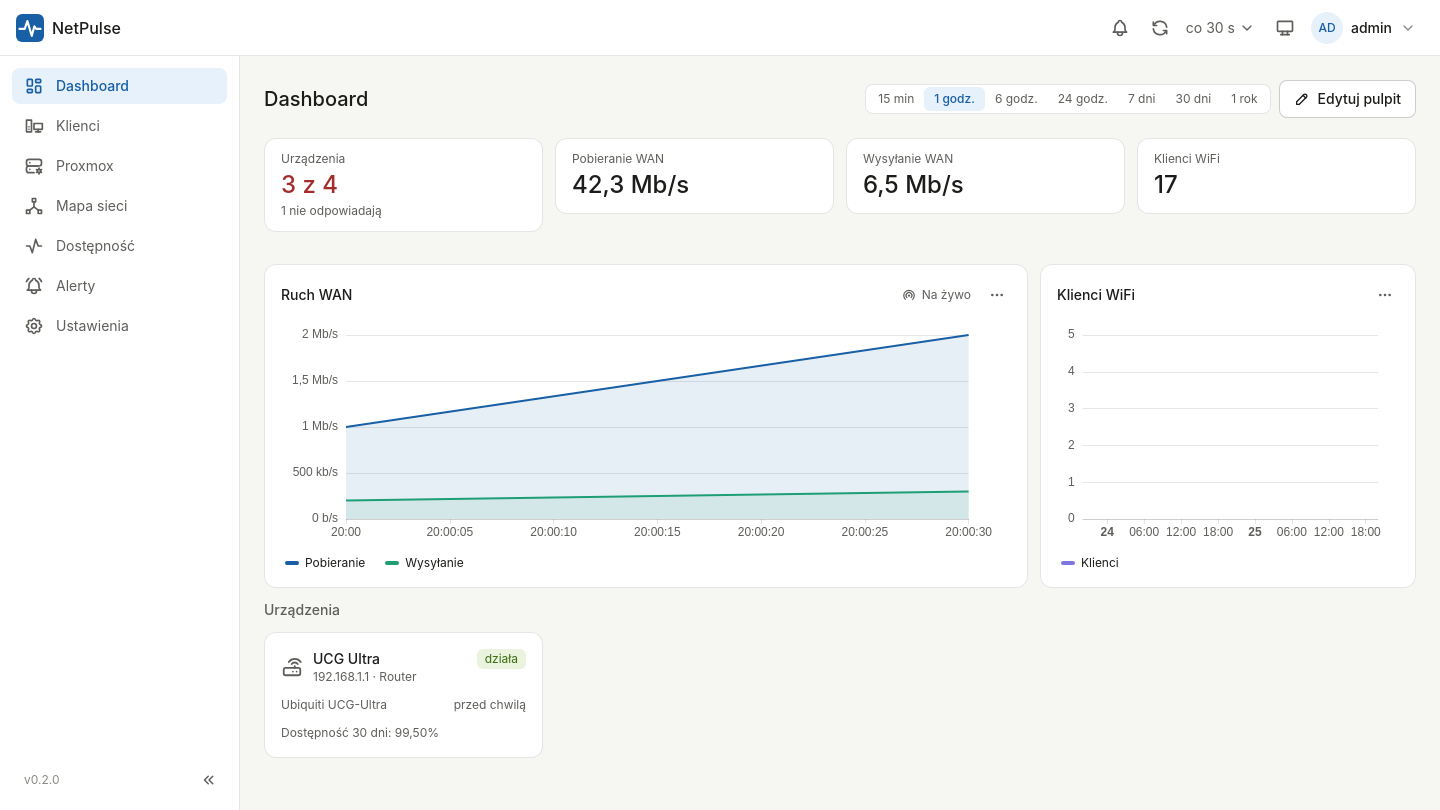
Test: odświeżanie w pasku górnym › opcja „Wyłączone” wyłącza automatyczne odświeżanie
Click the button with aria-label "Automatyczne odświeżanie" at (1220, 28), box top-left (1178, 10), bottom-right (1263, 46)
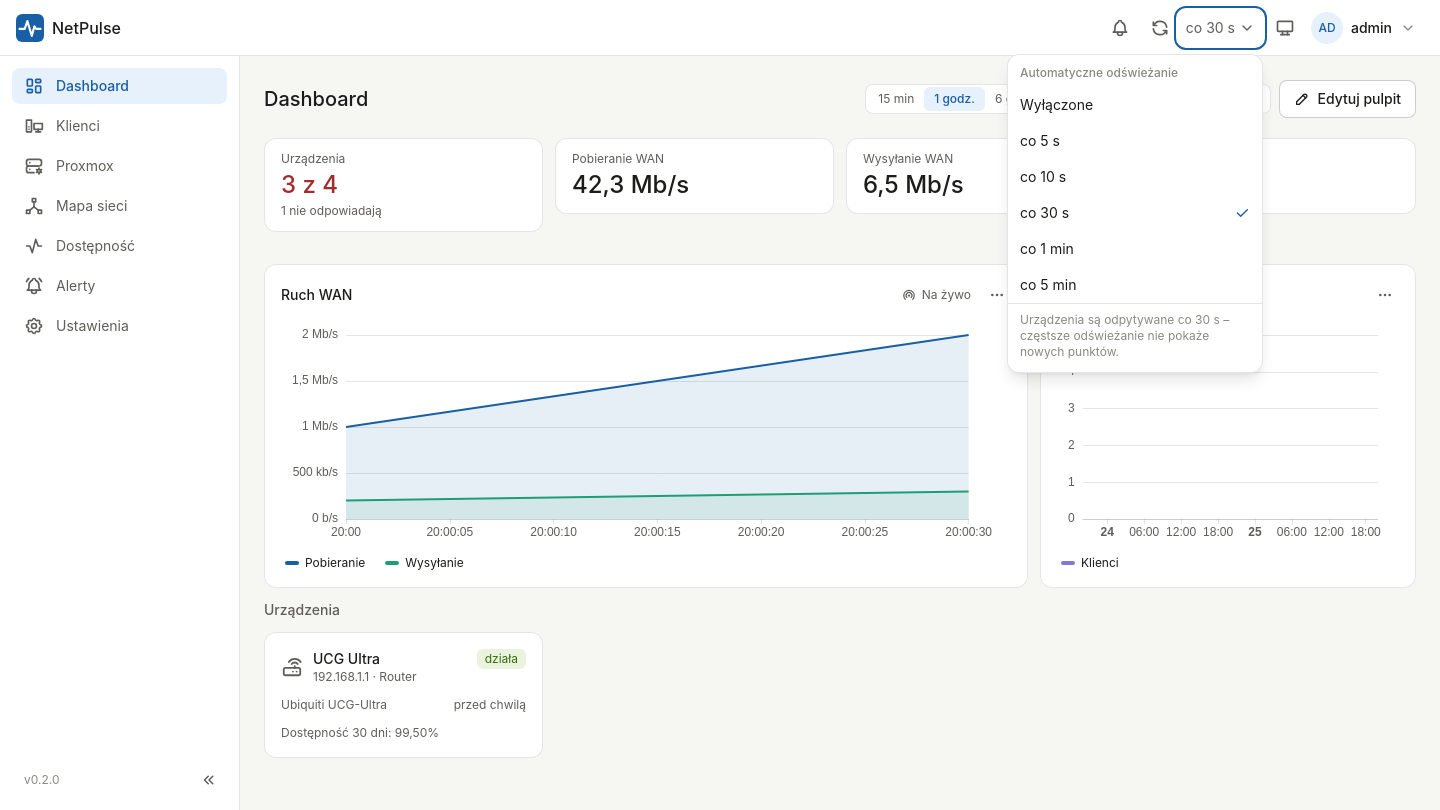
Click the menu item "Wyłączone" at (1135, 104), box top-left (1008, 86), bottom-right (1262, 122)
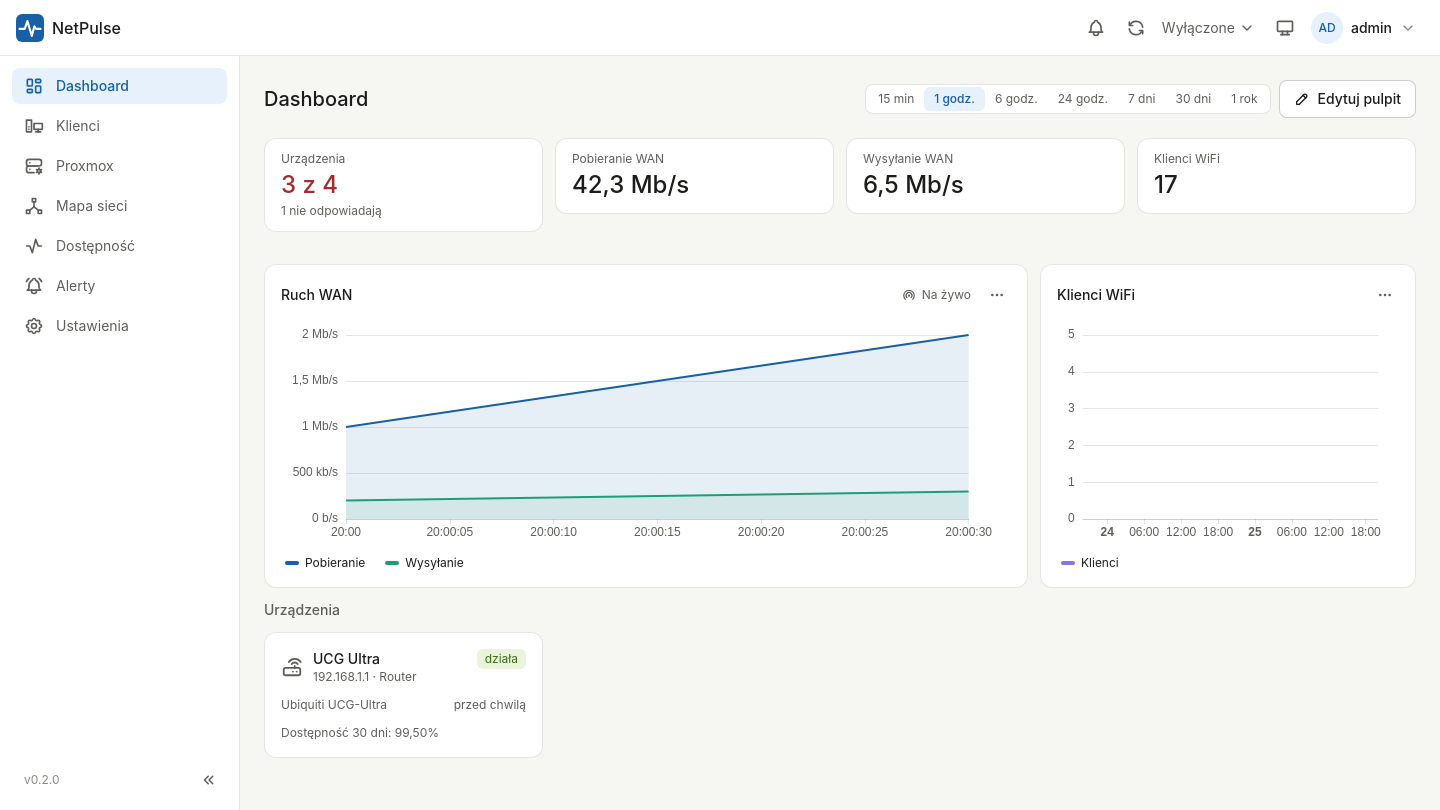
Expected: the button with aria-label "Automatyczne odświeżanie: Wyłączone" is shown, top-left (1154, 10), bottom-right (1263, 46)
